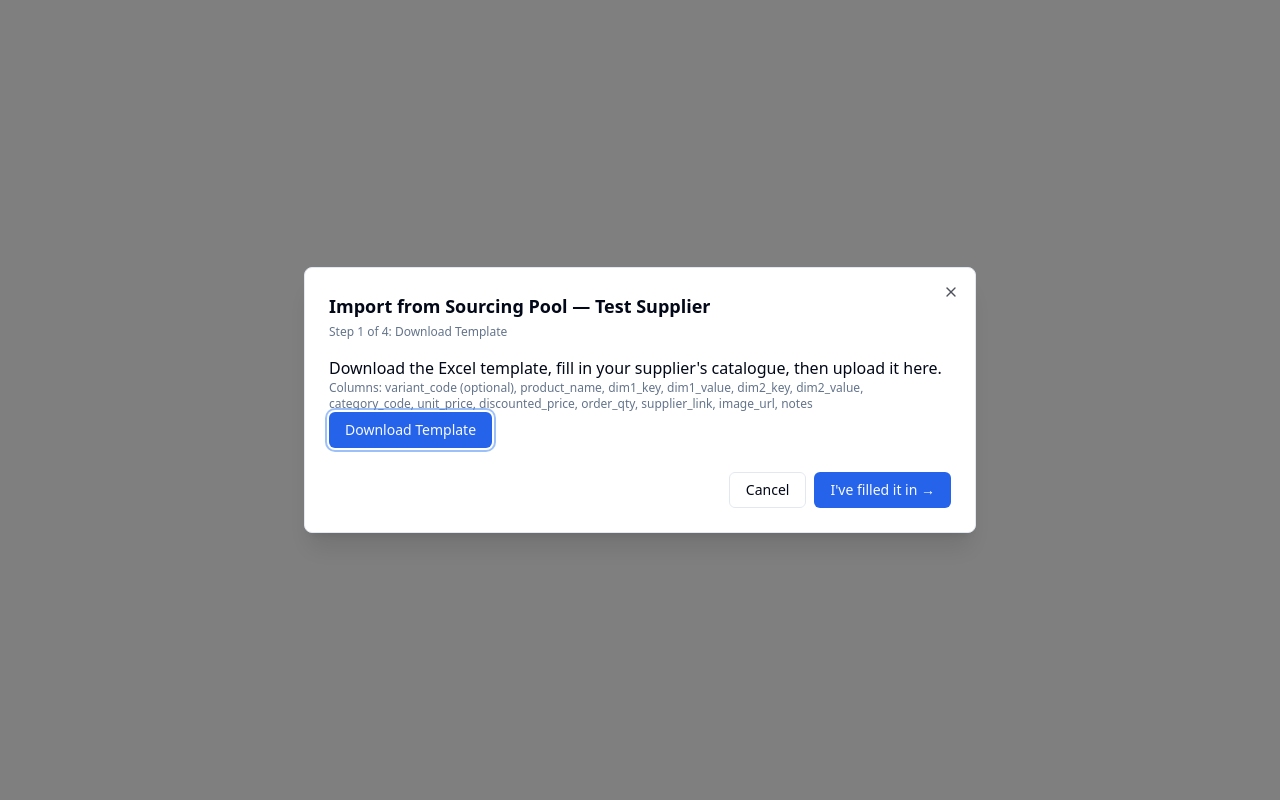
Test: next_button_goes_to_upload_step
Click the button "I've filled it in →" at (883, 490), box x1=814 y1=472 x2=951 y2=508
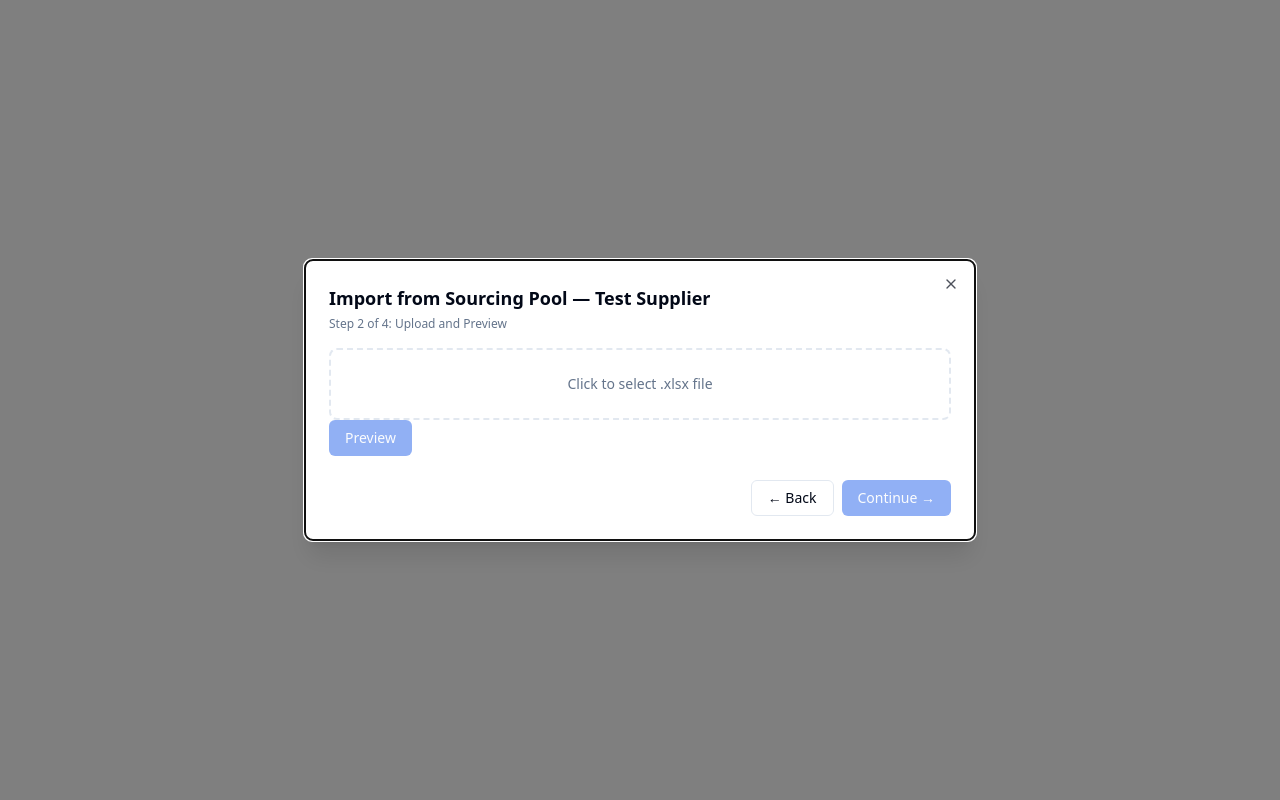
Expected: the text "Step 2 of 4: Upload and Preview" is shown, x1=329 y1=315 x2=507 y2=332
